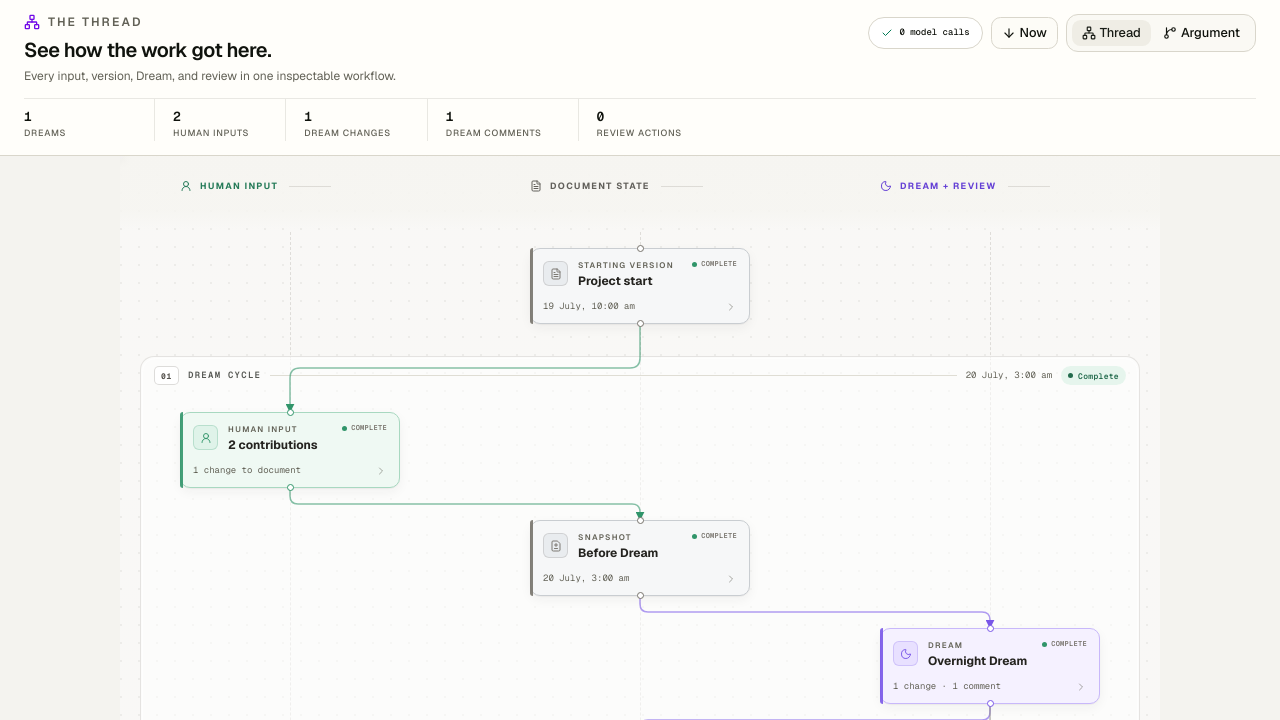
Project Thread view › renders the workflow graph and explains its deterministic cost
Expected: the heading "See how the work got here." is shown, [24, 37, 271, 63]
Expected: the text "0 model calls" is shown, [868, 17, 983, 49]
Click the button "Dream Complete Overnight Dream 1 change · 1 comment": (990, 666) [880, 628, 1100, 704]
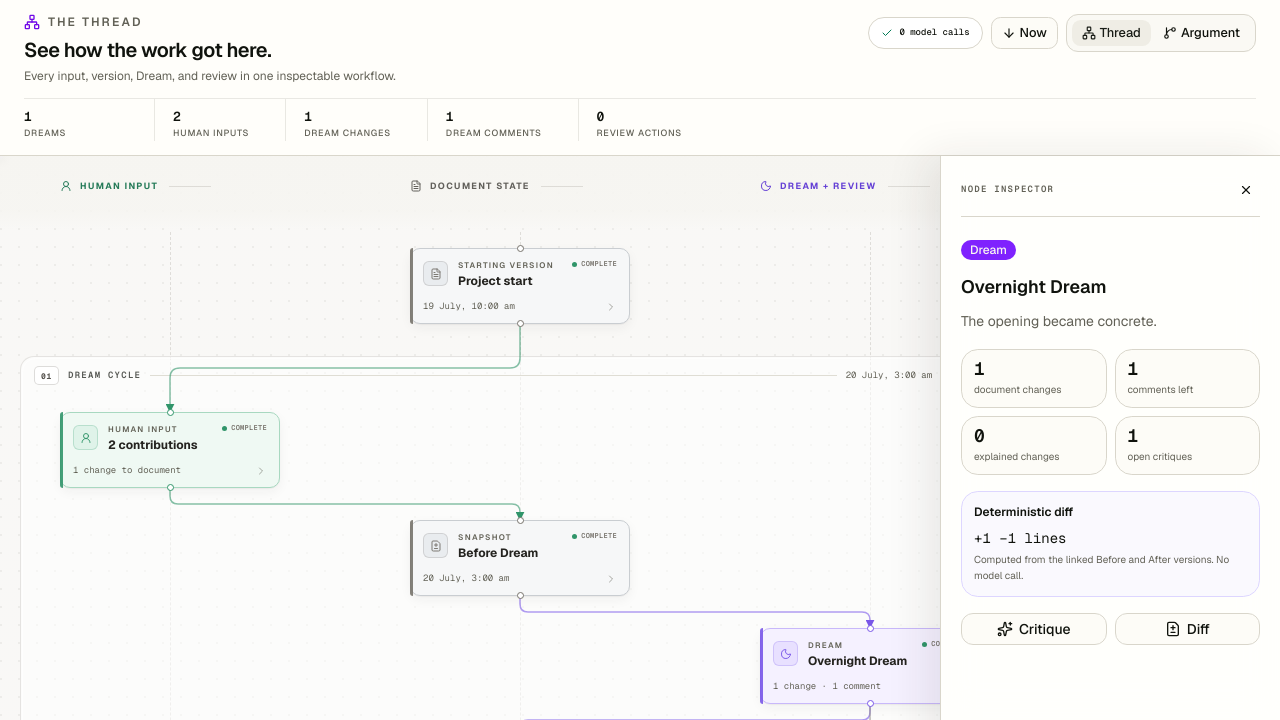
Now the element "Node inspector" shows "The opening became concrete.", box [961, 312, 1156, 330]
Now the text "Deterministic diff" is shown, box [974, 504, 1073, 520]
Now the text "Computed from the linked Before and After versions. No model call." is shown, box [974, 552, 1247, 584]
Click the button named "Close node inspector": (1246, 190) [1232, 176, 1260, 204]
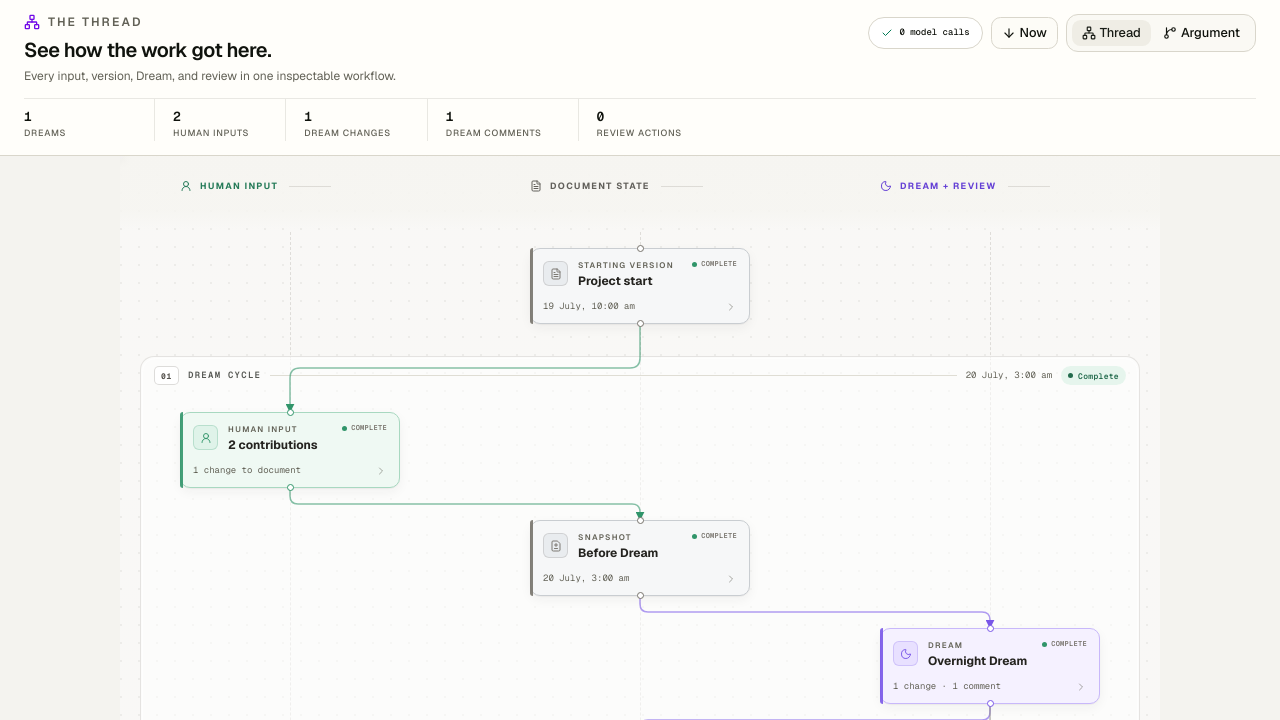
Now the text "Deterministic diff" is gone
